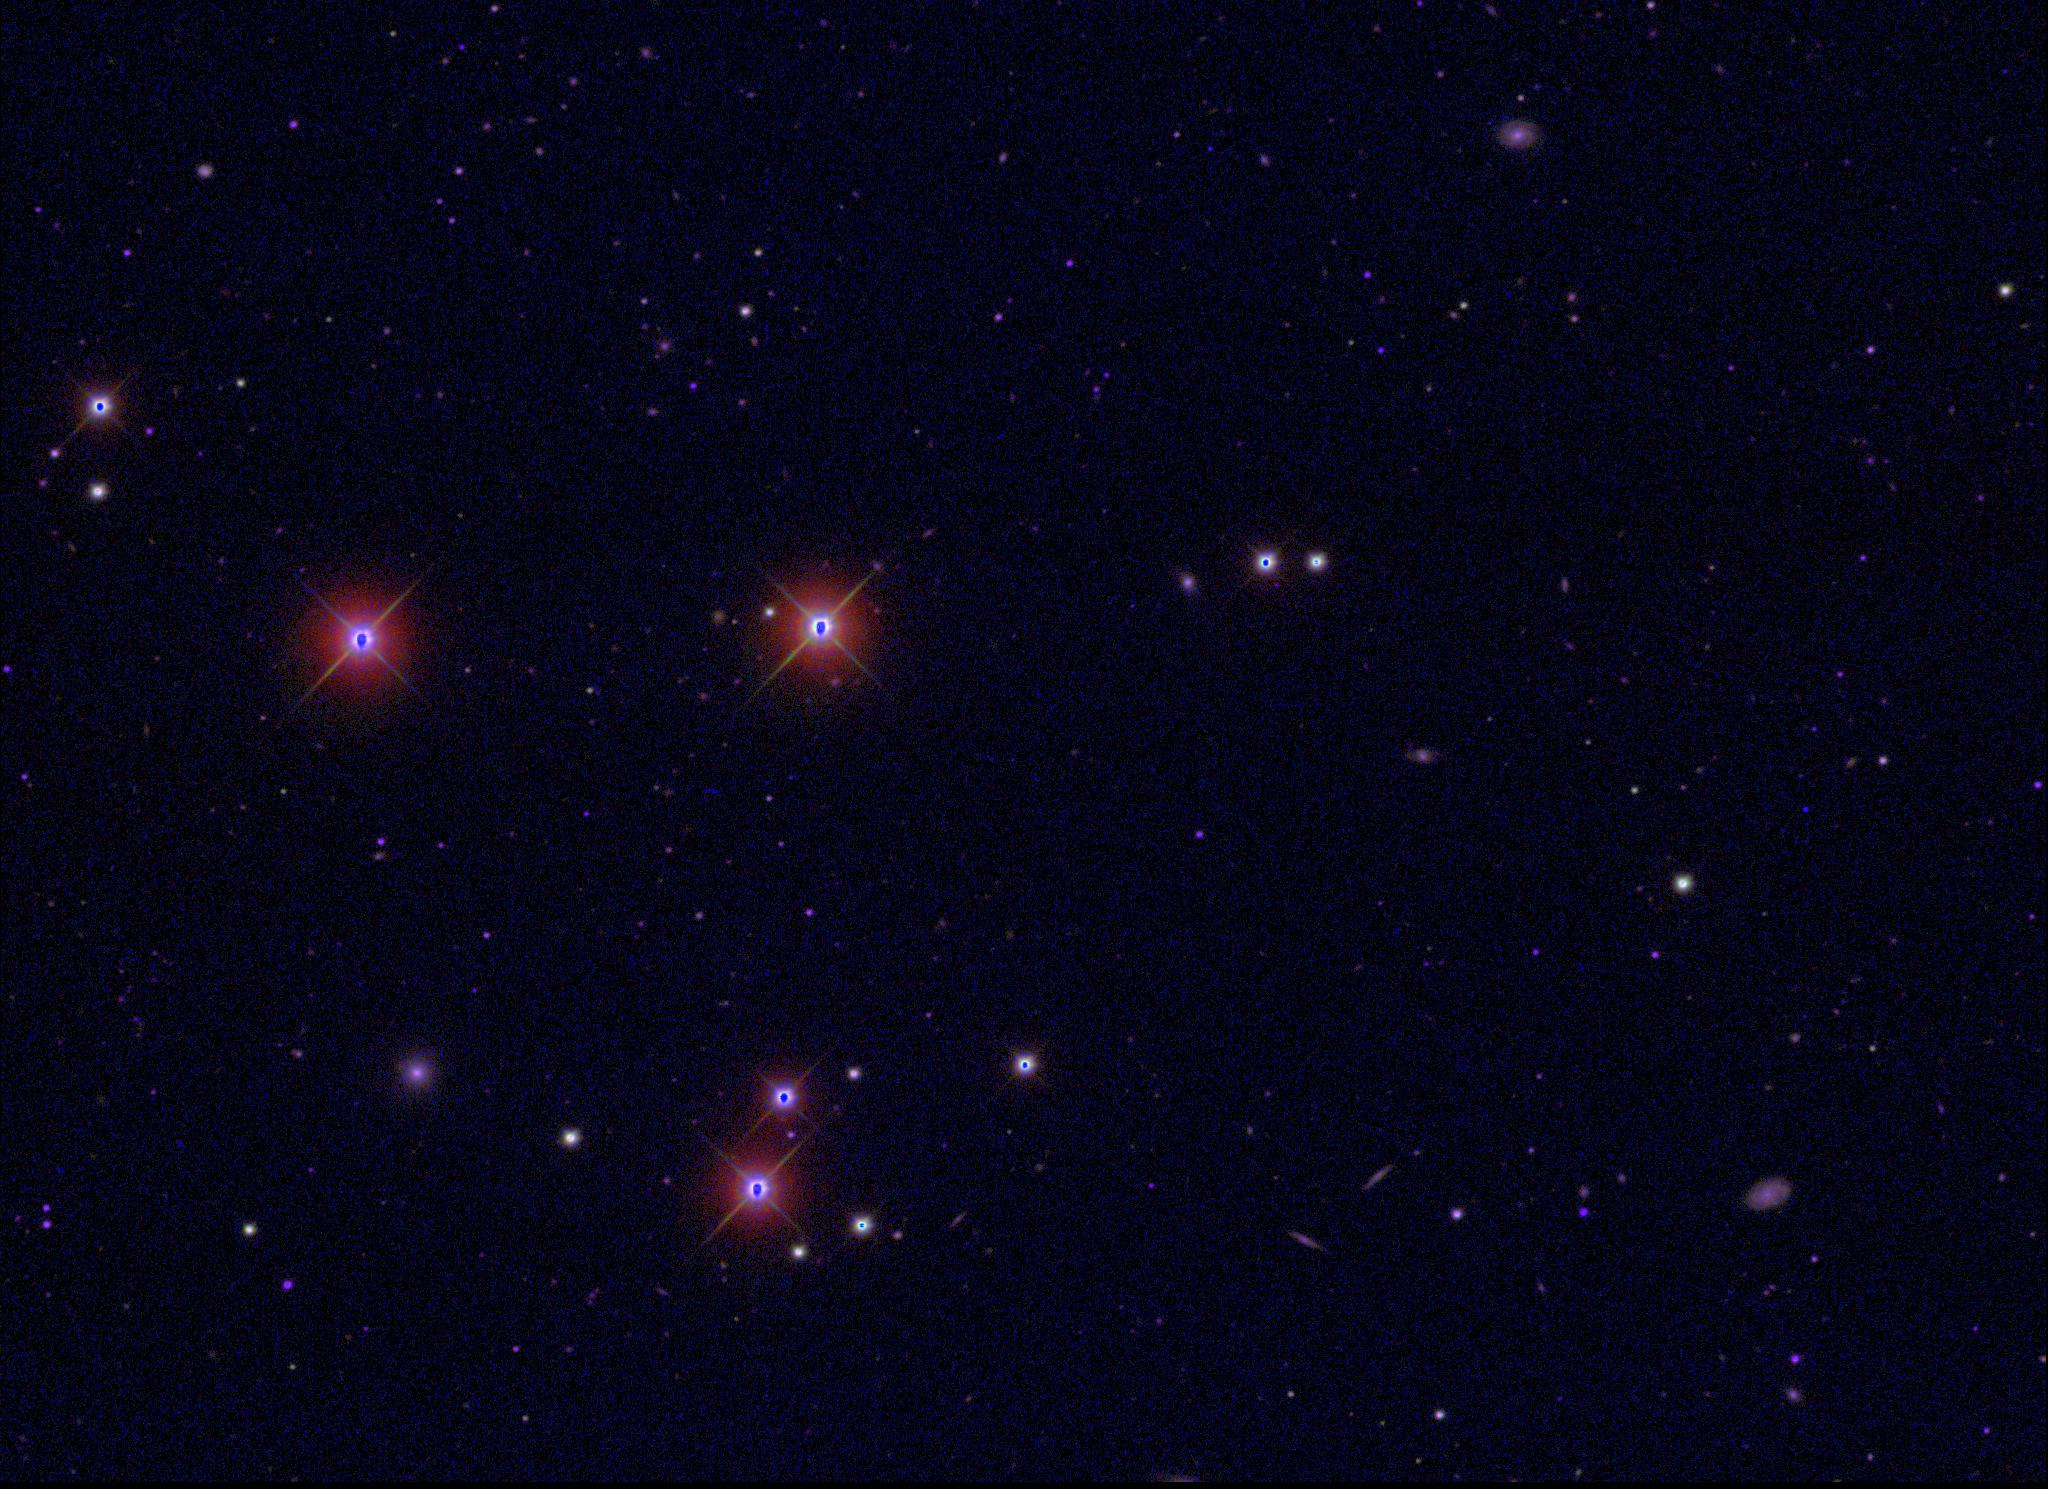L: (1797, 800, 1811, 814)
